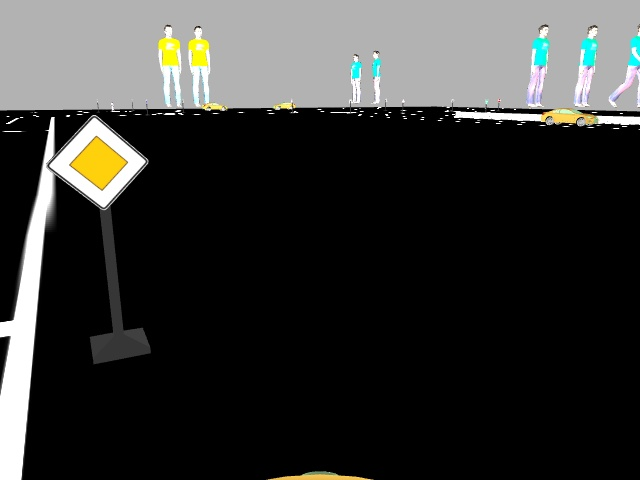Priority: (51, 115, 145, 209)
